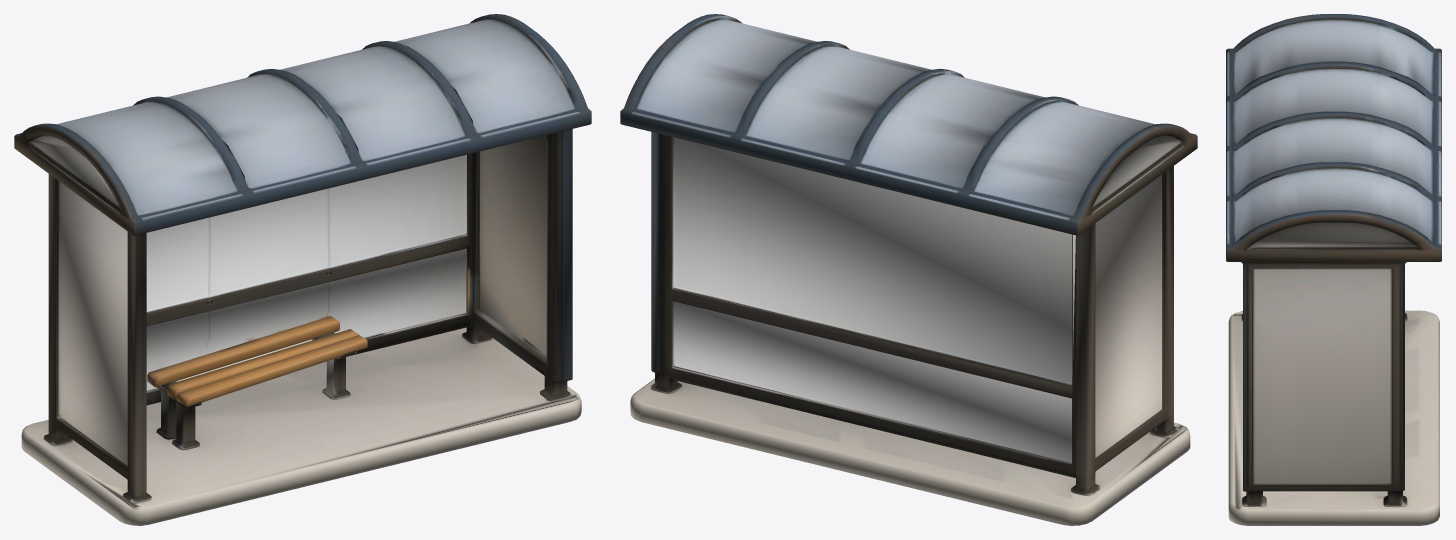
The model's file is a_bus_shelter_9fe53af3_v1.glb.
3 renders of one model, left to right at view 1: azimuth 30°, elevation 25°; view 2: azimuth 150°, elevation 25°; view 3: azimuth 270°, elevation 25°, orthographic. The views are drawn at different scales.
Visible parts, largest first — view 1: material; view 2: material; view 3: material.
Part boxes in pixels (left/top/right/bottom): material: left=14, top=14, right=591, bottom=525; material: left=620, top=14, right=1197, bottom=525; material: left=1226, top=14, right=1441, bottom=525.
Bounding box in the file's own units: 1.9 × 1.37 × 0.8573.
Materials: 1 (1 with a texture image).
